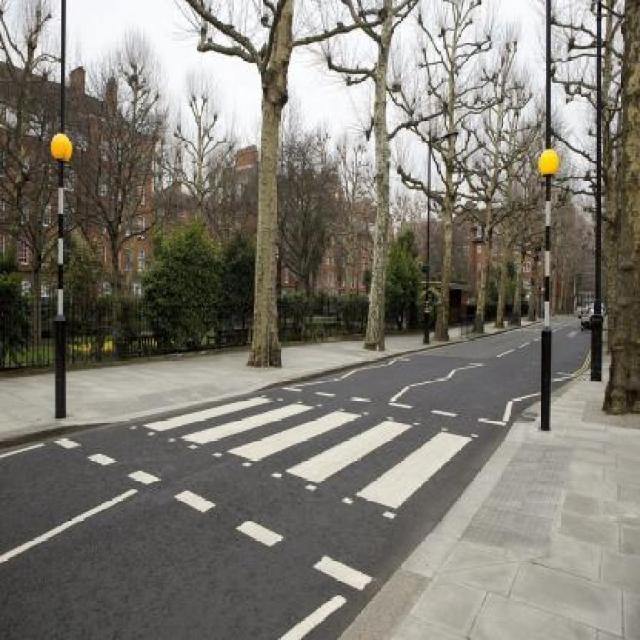crosswalk: (147, 395, 475, 512)
